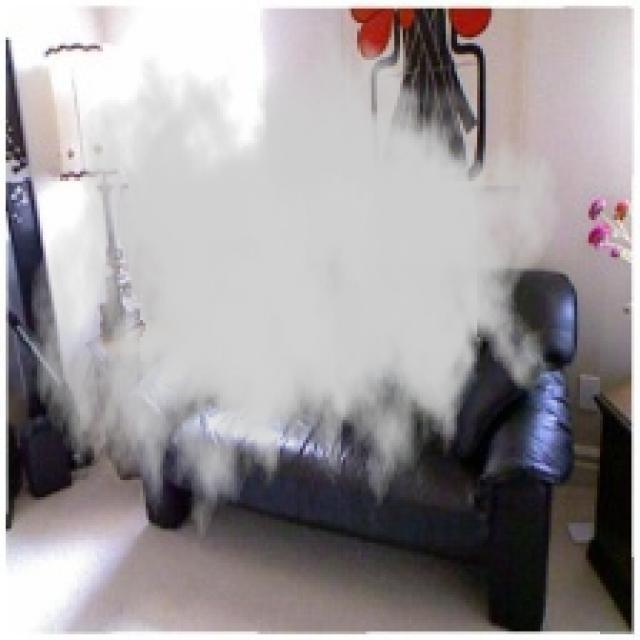Smoke: (28, 14, 563, 563)
